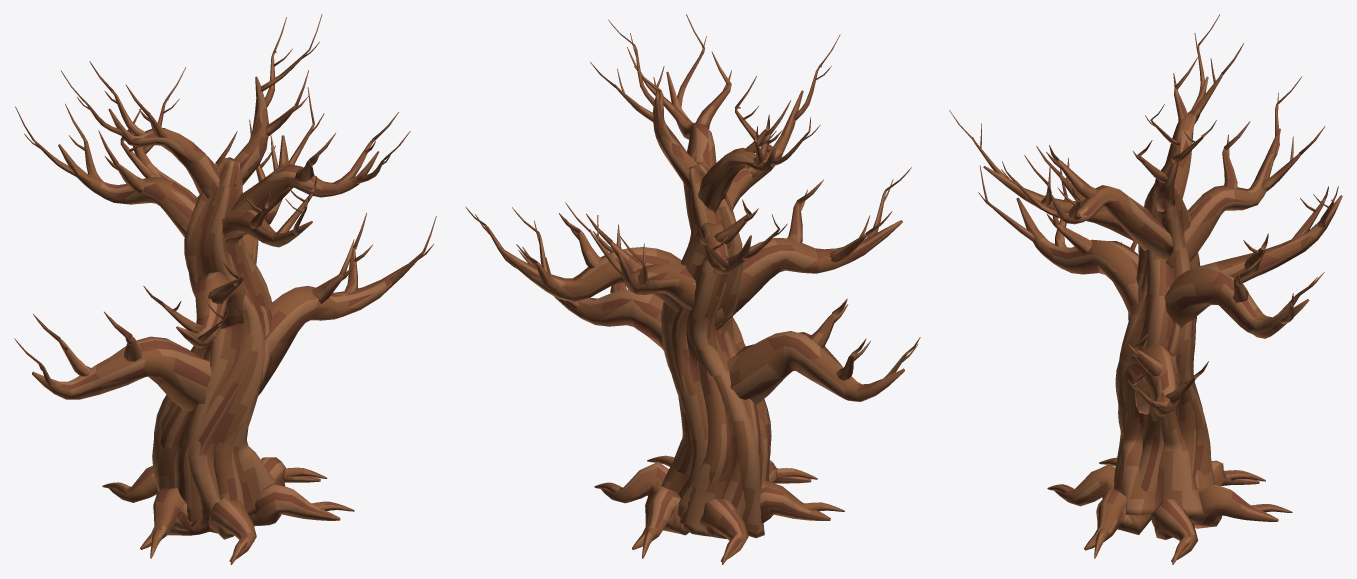
Rendered from wood-v4.glb.
3 views of the same model, side by side, from view 1: azimuth 30°, elevation 25°; view 2: azimuth 150°, elevation 25°; view 3: azimuth 270°, elevation 25° (orthographic). The views are drawn at different scales.
Visible parts, largest first — view 1: Wood_V4; view 2: Wood_V4; view 3: Wood_V4.
Boxes of the visible parts, <box> form: Wood_V4: <box>14,14,436,564</box>; Wood_V4: <box>465,14,920,564</box>; Wood_V4: <box>949,14,1342,564</box>.
Size of the model in its own units: 43.76 by 48.54 by 36.84.
